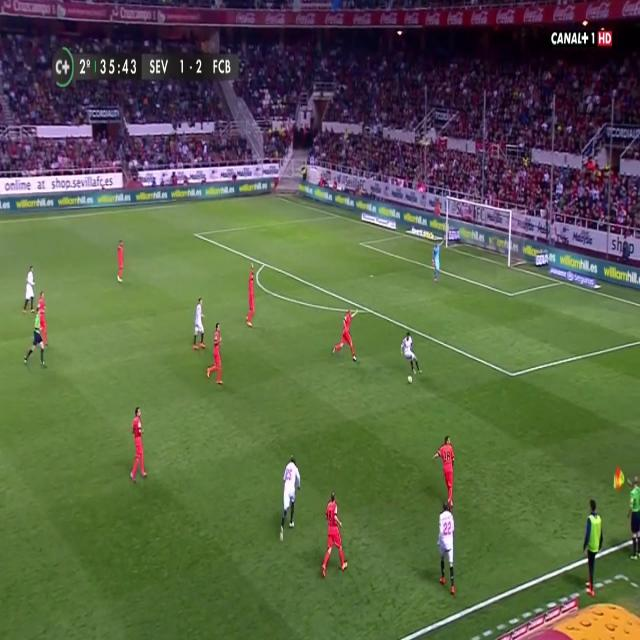Ball: (406, 371, 414, 387)
Goalkeeper: (429, 238, 445, 284)
Player: (321, 488, 349, 583), (276, 454, 304, 546), (432, 430, 457, 513), (436, 500, 458, 593), (329, 306, 362, 364), (126, 406, 148, 484), (204, 320, 223, 389), (399, 328, 423, 375), (191, 294, 207, 354), (244, 259, 257, 330), (20, 263, 36, 316), (36, 292, 49, 351), (115, 236, 127, 285)
Referee: (22, 307, 46, 370), (626, 472, 640, 562)
